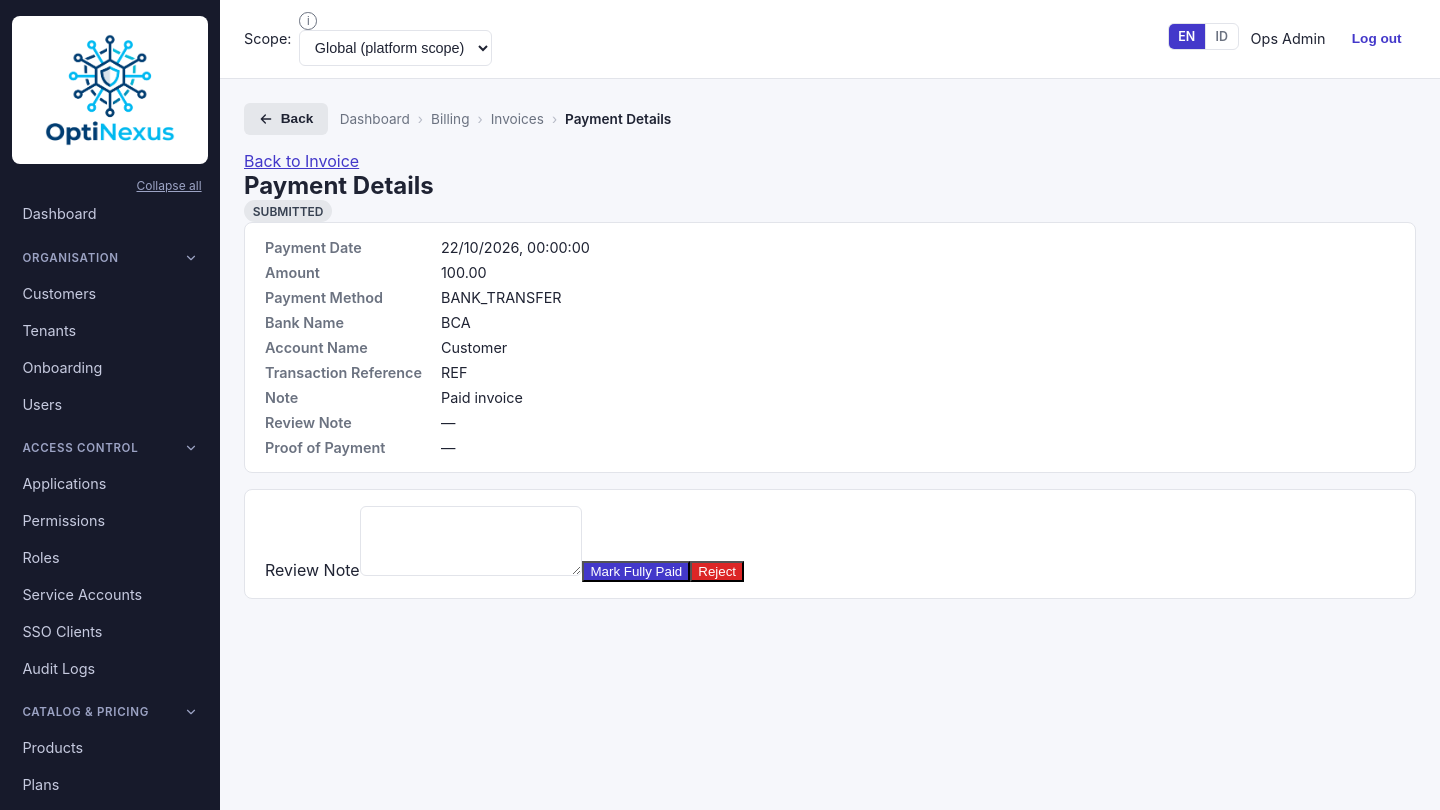
Test: reviews the selected submitted payment using reject
The image size is (1440, 810).
Expected: the text "BCA" is shown, 441,314 -> 471,331
Click the button "Reject" at {"x": 717, "y": 571}, box 690,561 -> 744,582
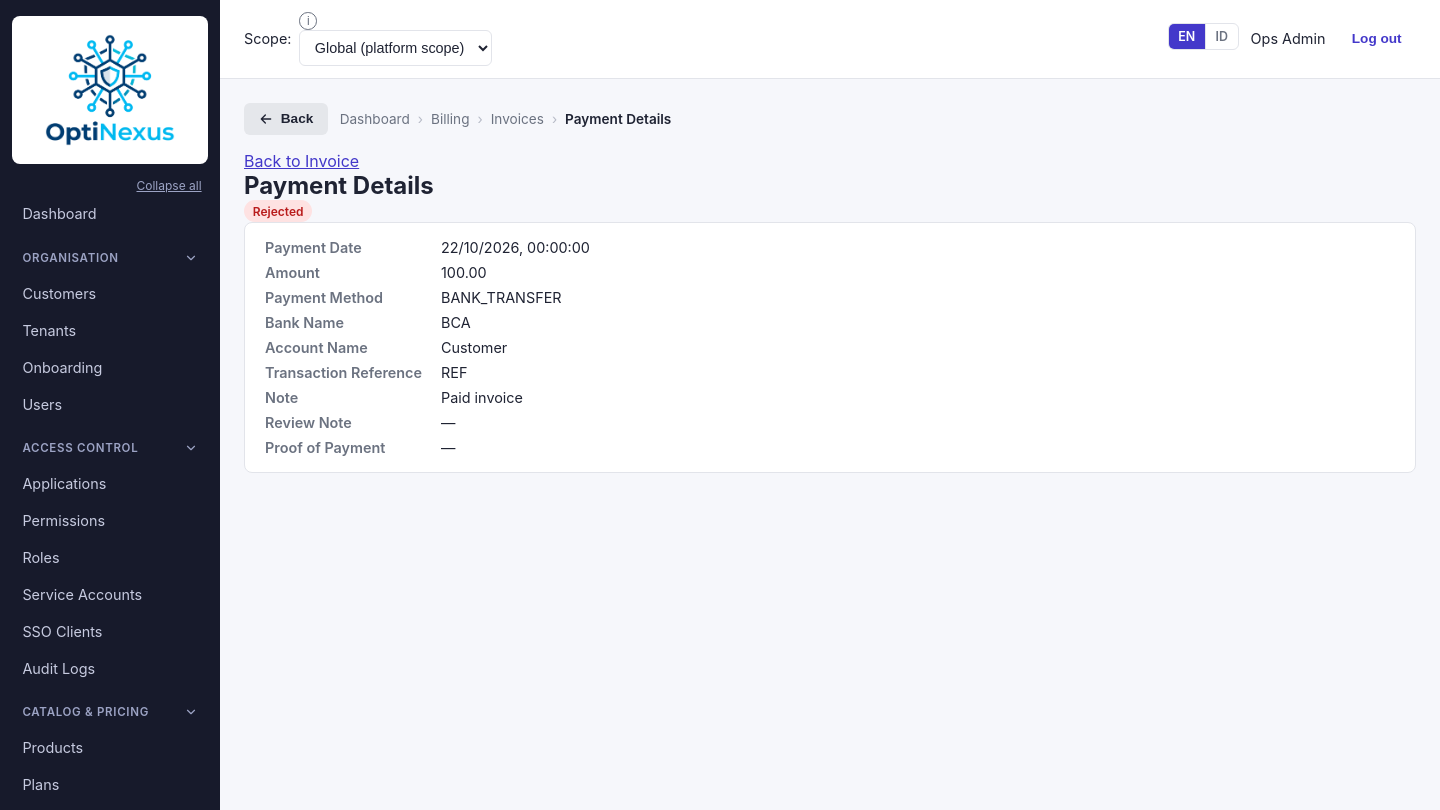
Now the button "Mark Fully Paid" is gone
